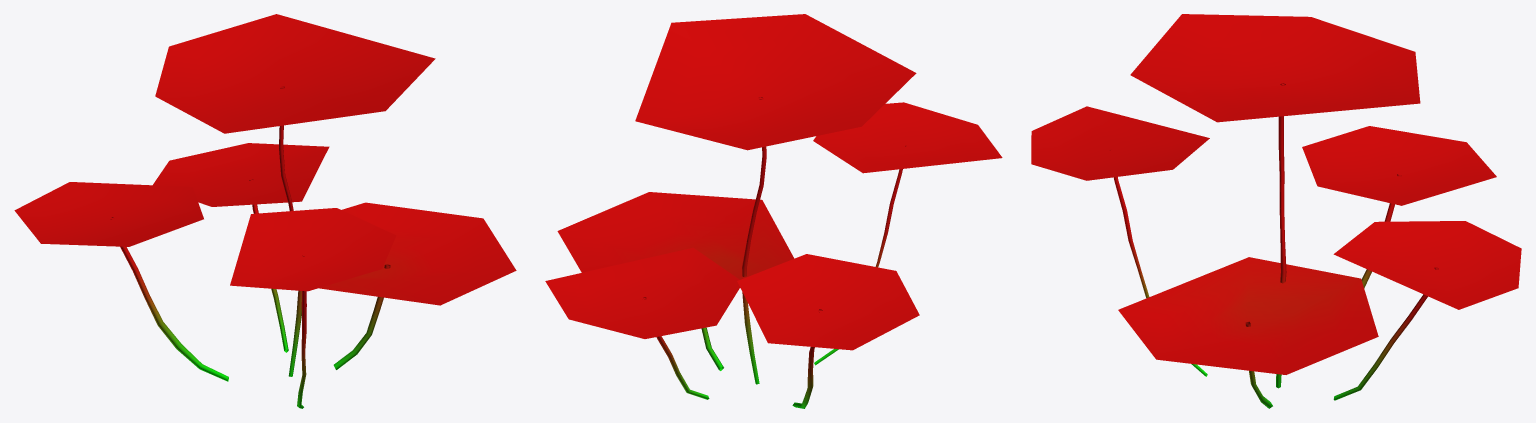
Rendered from Wood Sorrel_LOD0_Var12_wcwmchzja.fbx.
3 renders of one model, left to right at view 1: azimuth 30°, elevation 25°; view 2: azimuth 150°, elevation 25°; view 3: azimuth 270°, elevation 25°, orthographic. The views are drawn at different scales.
Visible parts, largest first — view 1: _7xd6_Var12_LOD0; view 2: _7xd6_Var12_LOD0; view 3: _7xd6_Var12_LOD0.
Boxes of the visible parts, x1,y1,x2,y2 form: _7xd6_Var12_LOD0: (14, 14, 516, 408); _7xd6_Var12_LOD0: (545, 14, 1002, 408); _7xd6_Var12_LOD0: (1031, 14, 1521, 408).
Bounding box in the file's own units: 10.91 × 8.13 × 11.07.
